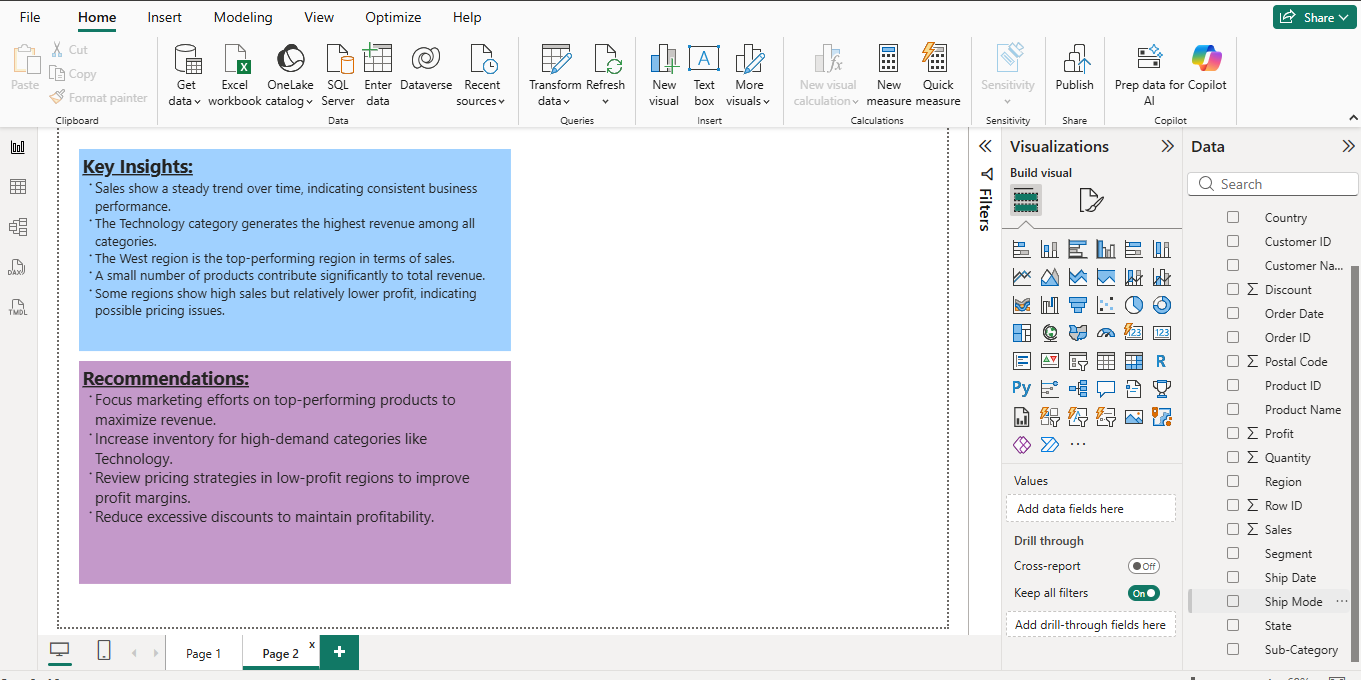

The dashboard page shown, as its layout file describes it:
{"tool":"powerbi","page":{"name":"Page 2","canvas":[1280,720],"ordinal":1},"visuals":[{"type":"textbox","box":[10,0,280,280],"z":0},{"type":"textbox","box":[28.8,31.7,622.1,290.9],"z":1},{"type":"textbox","box":[28.8,337,622.1,321.1],"z":2}]}

Visuals, with their boxes on the page's 1280x720 design canvas (x1, y1, x2, y2). These are canvas units, not pixel positions in the 1361x680 screenshot, which may show the page scaled, cropped or inside an application window:
textbox: region(10, 0, 290, 280)
textbox: region(29, 32, 651, 323)
textbox: region(29, 337, 651, 658)
